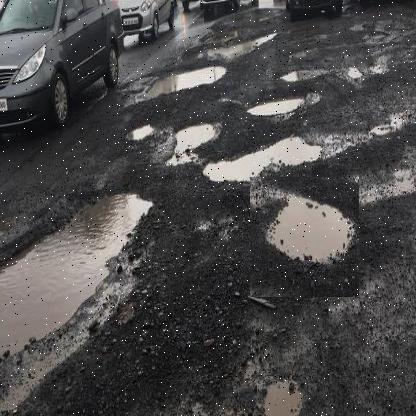pothole_water: (250, 177, 360, 298)
